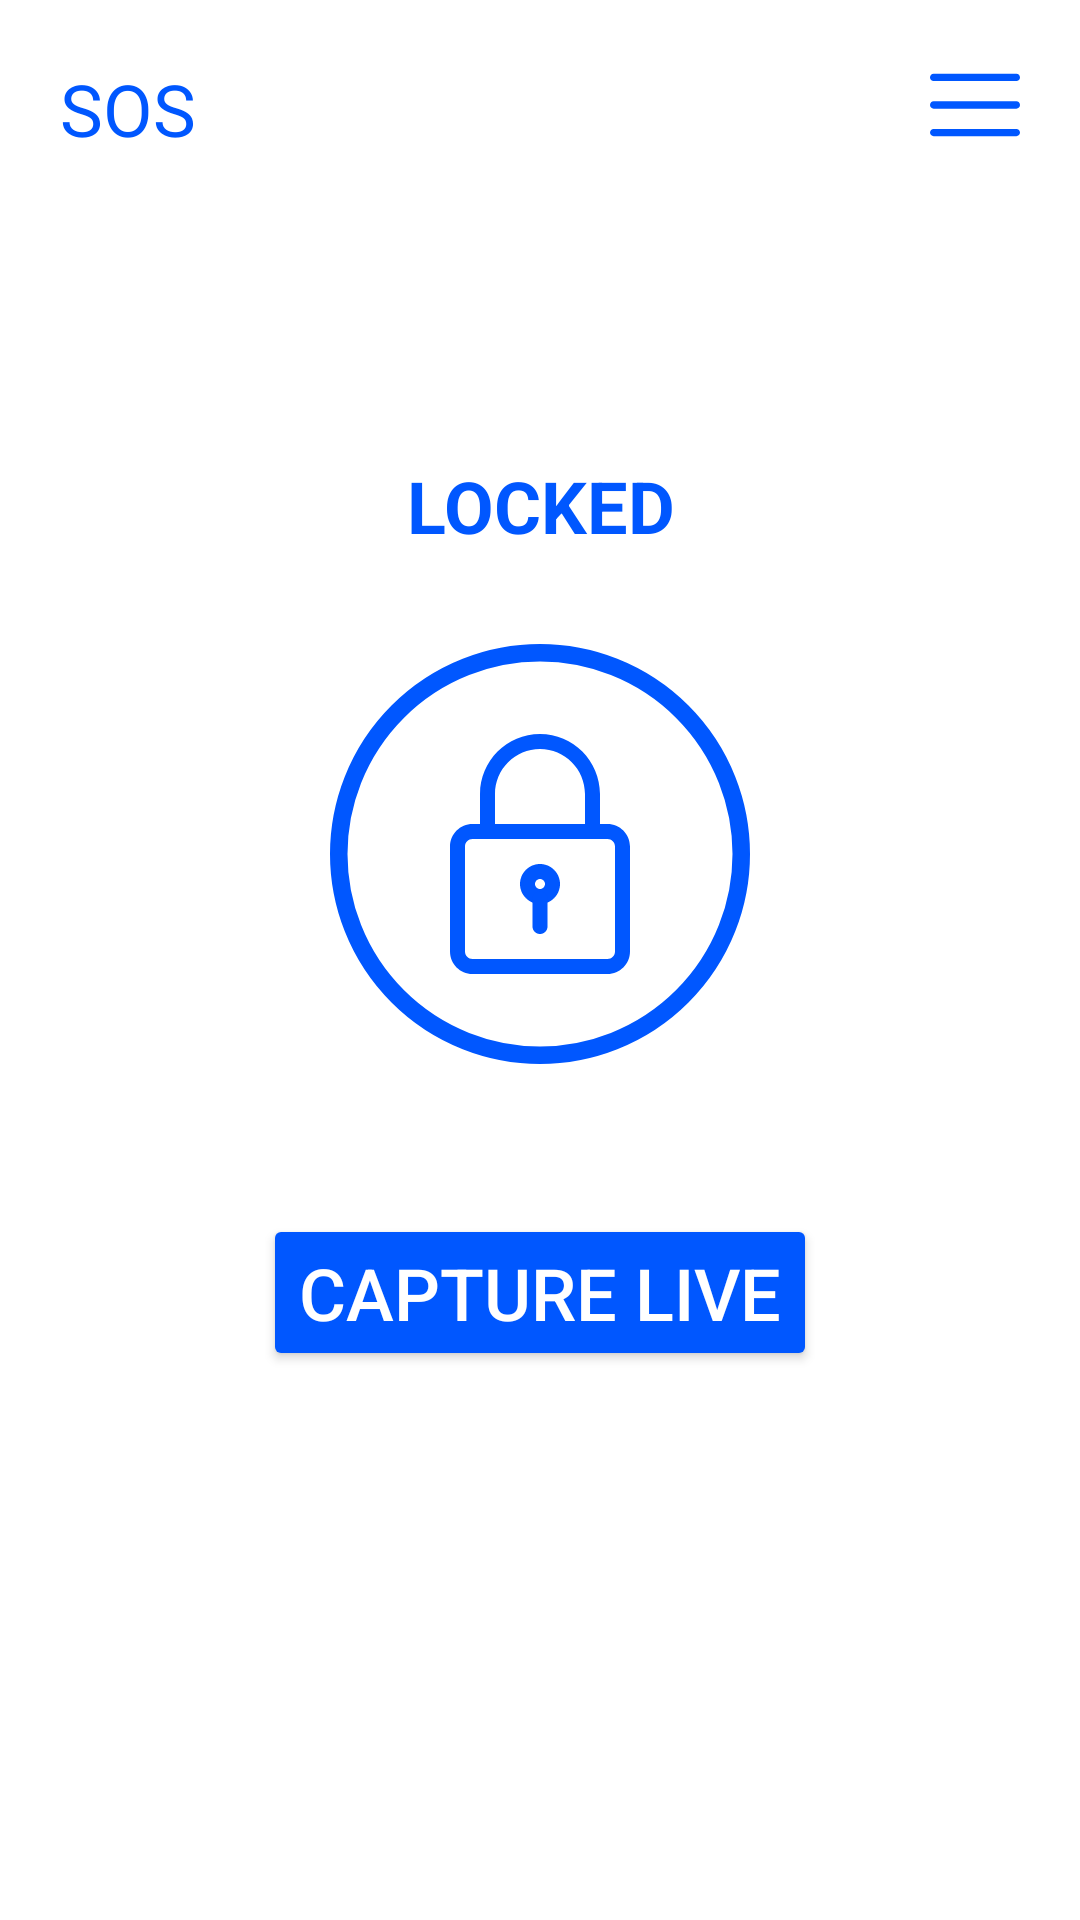

Icons on this 1080 x 1920 Android screen, each with the point to tap as (x,y):
menu: (975,105)
